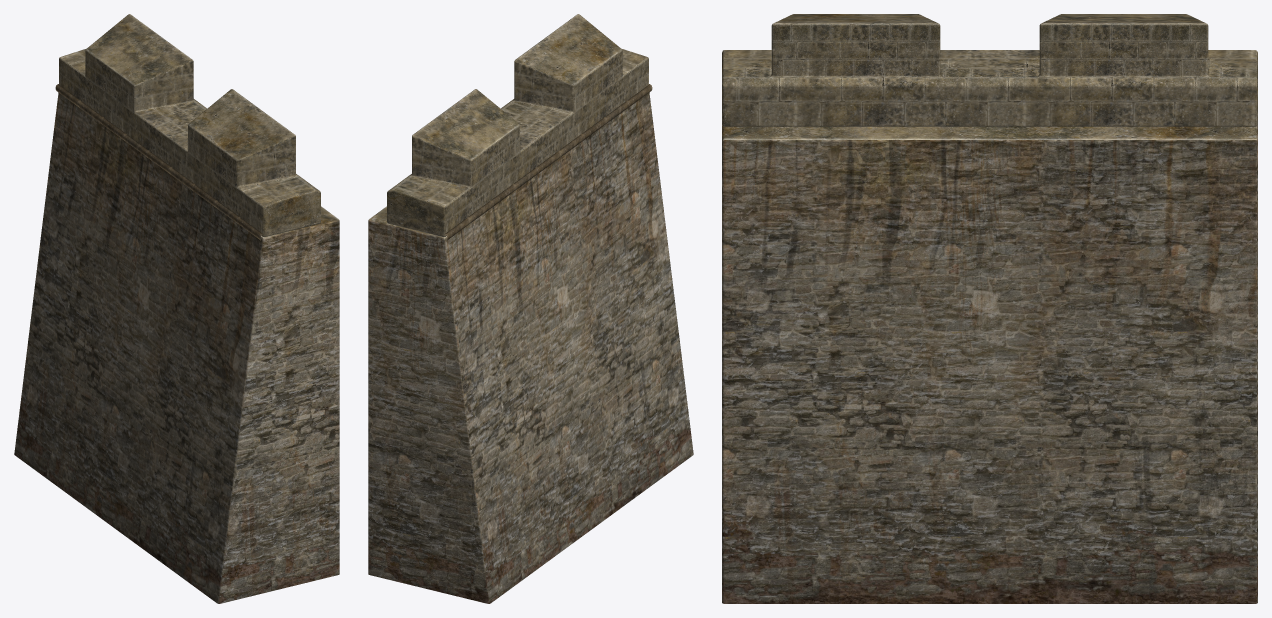
Rendered from modular_fort_01_wall_thin_straight_04.gltf.
The picture shows the model from 3 angles, left to right: view 1: azimuth 30°, elevation 25°; view 2: azimuth 150°, elevation 25°; view 3: azimuth 270°, elevation 25°; orthographic projection. The views are drawn at different scales.
Visible parts, largest first — view 1: modular_fort_01_wall_thin_straight_04__x; view 2: modular_fort_01_wall_thin_straight_04__x; view 3: modular_fort_01_wall_thin_straight_04__x.
Boxes of the visible parts, x1,y1,x2,y2 form: modular_fort_01_wall_thin_straight_04__x: [14, 14, 339, 603]; modular_fort_01_wall_thin_straight_04__x: [368, 14, 693, 603]; modular_fort_01_wall_thin_straight_04__x: [722, 14, 1257, 603].
Size of the model in its own units: 2.55 by 8.61 by 7.41.
2 materials, 2 textured.
